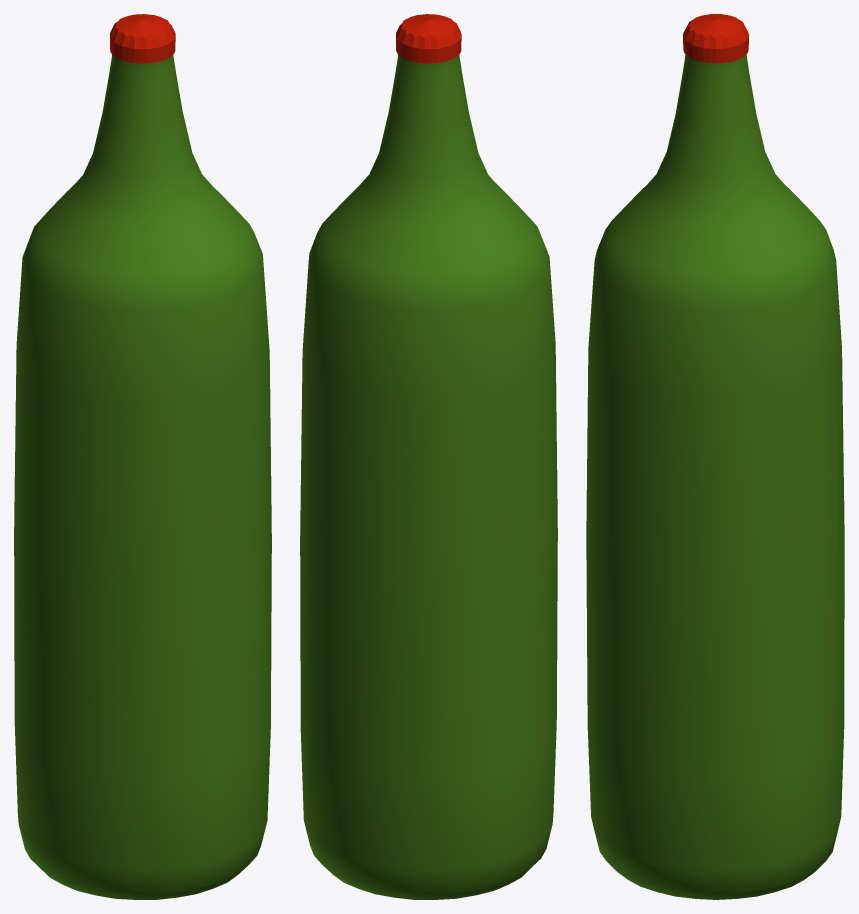
The model's file is garrafa.fbx.
3 views of the same model, side by side, from view 1: azimuth 30°, elevation 25°; view 2: azimuth 150°, elevation 25°; view 3: azimuth 270°, elevation 25° (orthographic).
Parts seen in each view (by area): view 1: Cilindro, Cilindro.002; view 2: Cilindro, Cilindro.002; view 3: Cilindro, Cilindro.002.
Part boxes in pixels (bbox=[...]): Cilindro: bbox=[14, 55, 271, 899]; Cilindro.002: bbox=[110, 14, 175, 63]; Cilindro: bbox=[300, 55, 557, 899]; Cilindro.002: bbox=[396, 14, 461, 63]; Cilindro: bbox=[586, 54, 844, 899]; Cilindro.002: bbox=[683, 14, 749, 63].
Size of the model in its own units: 341 by 1234 by 341.
